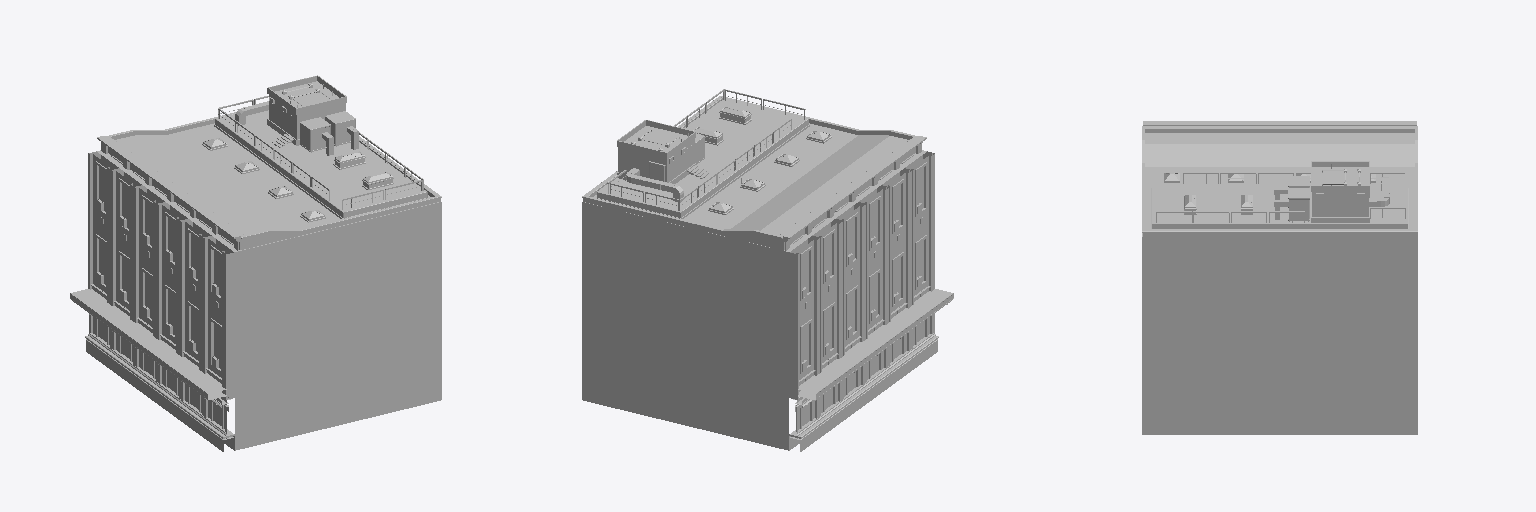
The model's file is building_Four.obj.
3 renders of one model, left to right at view 1: azimuth 30°, elevation 25°; view 2: azimuth 150°, elevation 25°; view 3: azimuth 270°, elevation 25°, orthographic.
Visible parts, largest first — view 1: building sides __Comp9__2, building roof __Comp9__5, building facade __Comp9__3 window __Repeat9__5 __Subdiv15__2 oth, building facade __Comp9__3 __Subdiv15__1 downfloor window __Repe, building facade __Comp9__3 __Subdiv15__1 downfloor window door_N, building facade __Comp9__3 window __Repeat9__1 __Subdiv15__2 oth, building facade __Comp9__3 window __Repeat9__4 __Subdiv15__2 oth, building facade __Comp9__3 window __Repeat9__2 __Subdiv15__2 oth, building facade __Comp9__3 window __Repeat9__3 __Subdiv15__2 oth, building facade __Comp9__3 __Repeat9__0 window __Subdiv15__2 oth, building facade __Comp9__3 __Subdiv15__1 downfloor __Repeat9__0 ; view 2: building sides __Comp9__0, building roof __Comp9__5, building facade __Comp9__3 __Repeat9__0 window __Subdiv15__2 oth, building facade __Comp9__3 __Subdiv15__1 downfloor window __Repe, building facade __Comp9__3 __Subdiv15__1 downfloor window door_N, building facade __Comp9__3 window __Repeat9__1 __Subdiv15__2 oth, building facade __Comp9__3 window __Repeat9__3 __Subdiv15__2 oth, building facade __Comp9__3 window __Repeat9__4 __Subdiv15__2 oth, building facade __Comp9__3 window __Repeat9__2 __Subdiv15__2 oth, building facade __Comp9__3 window __Repeat9__5 __Subdiv15__2 oth, building facade __Comp9__3 __Subdiv15__1 downfloor __Repeat9__0 ; view 3: building sides __Comp9__1, building roof __Comp9__5.
Part boxes in pixels (x1,y1,x2,y2): building sides __Comp9__2: (235, 202, 441, 450); building roof __Comp9__5: (97, 75, 441, 251); building facade __Comp9__3 window __Repeat9__5 __Subdiv15__2 oth: (203, 236, 234, 399); building facade __Comp9__3 __Subdiv15__1 downfloor window __Repe: (93, 301, 230, 400); building facade __Comp9__3 __Subdiv15__1 downfloor window door_N: (108, 331, 234, 438); building facade __Comp9__3 window __Repeat9__1 __Subdiv15__2 oth: (111, 168, 141, 321); building facade __Comp9__3 window __Repeat9__4 __Subdiv15__2 oth: (180, 219, 211, 371); building facade __Comp9__3 window __Repeat9__2 __Subdiv15__2 oth: (134, 185, 164, 338); building facade __Comp9__3 window __Repeat9__3 __Subdiv15__2 oth: (157, 202, 187, 354); building facade __Comp9__3 __Repeat9__0 window __Subdiv15__2 oth: (88, 151, 118, 304); building facade __Comp9__3 __Subdiv15__1 downfloor __Repeat9__0 : (70, 284, 111, 354); building sides __Comp9__0: (582, 202, 788, 450); building roof __Comp9__5: (582, 89, 926, 251); building facade __Comp9__3 __Repeat9__0 window __Subdiv15__2 oth: (785, 236, 819, 399); building facade __Comp9__3 __Subdiv15__1 downfloor window __Repe: (821, 286, 953, 383); building facade __Comp9__3 __Subdiv15__1 downfloor window door_N: (820, 314, 938, 421); building facade __Comp9__3 window __Repeat9__1 __Subdiv15__2 oth: (812, 219, 842, 372); building facade __Comp9__3 window __Repeat9__3 __Subdiv15__2 oth: (859, 185, 888, 338); building facade __Comp9__3 window __Repeat9__4 __Subdiv15__2 oth: (882, 168, 911, 321); building facade __Comp9__3 window __Repeat9__2 __Subdiv15__2 oth: (836, 202, 865, 355); building facade __Comp9__3 window __Repeat9__5 __Subdiv15__2 oth: (905, 151, 934, 304); building facade __Comp9__3 __Subdiv15__1 downfloor __Repeat9__0 : (789, 370, 838, 438); building sides __Comp9__1: (1142, 237, 1417, 434); building roof __Comp9__5: (1142, 121, 1417, 236).
Size of the model in its own units: 5139 by 5144 by 5255.